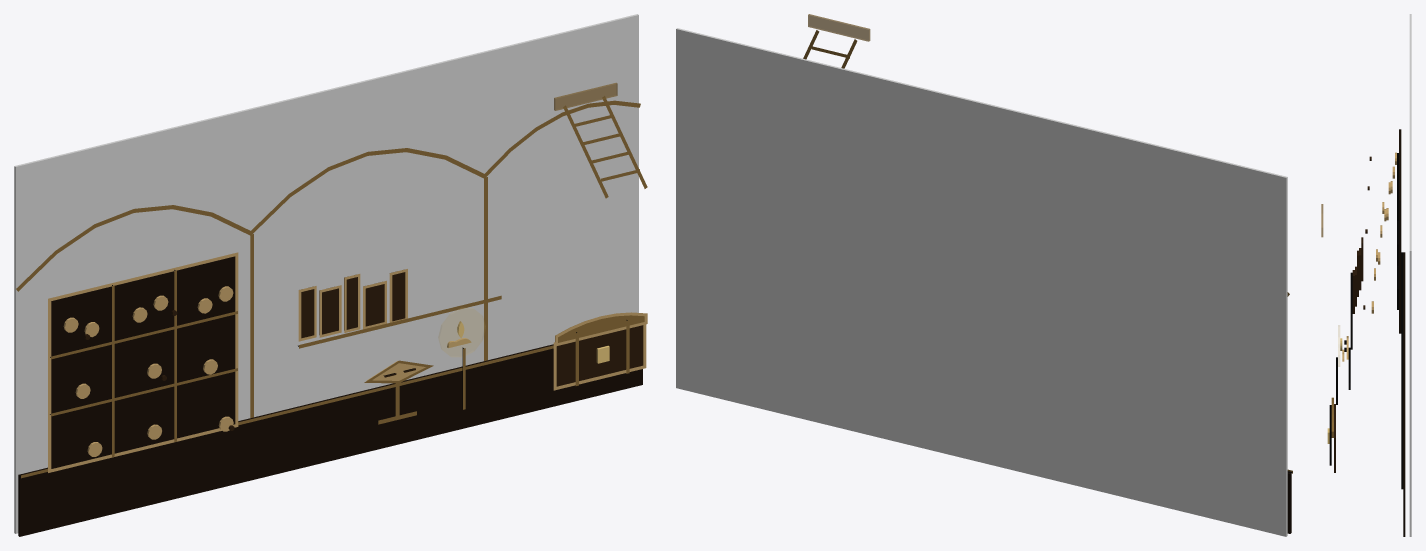
Rendered from loc-tainaya-biblioteka.glb.
3 renders of one model, left to right at view 1: azimuth 30°, elevation 25°; view 2: azimuth 150°, elevation 25°; view 3: azimuth 270°, elevation 25°, orthographic. The views are drawn at different scales.
Parts seen in each view (by area): view 1: loc-tainaya-biblioteka; view 2: loc-tainaya-biblioteka; view 3: loc-tainaya-biblioteka.
Part boxes in pixels (x1,y1,x2,y2): loc-tainaya-biblioteka: (14,14,647,536); loc-tainaya-biblioteka: (676,14,1292,536); loc-tainaya-biblioteka: (1321,14,1411,536).
Size of the model in its own units: 5.35 by 3 by 0.86.
